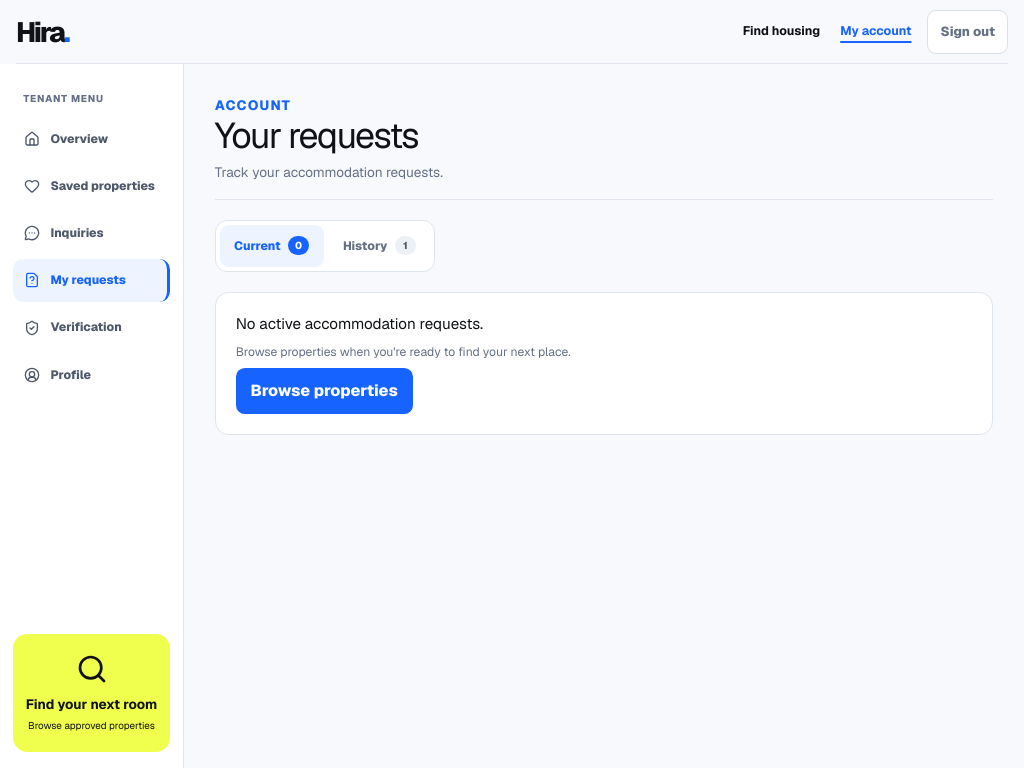
Test case: RequestList › shows a declined request reason to its tenant
Click the tab "History 1" at (380, 246), box [328,224,430,267]
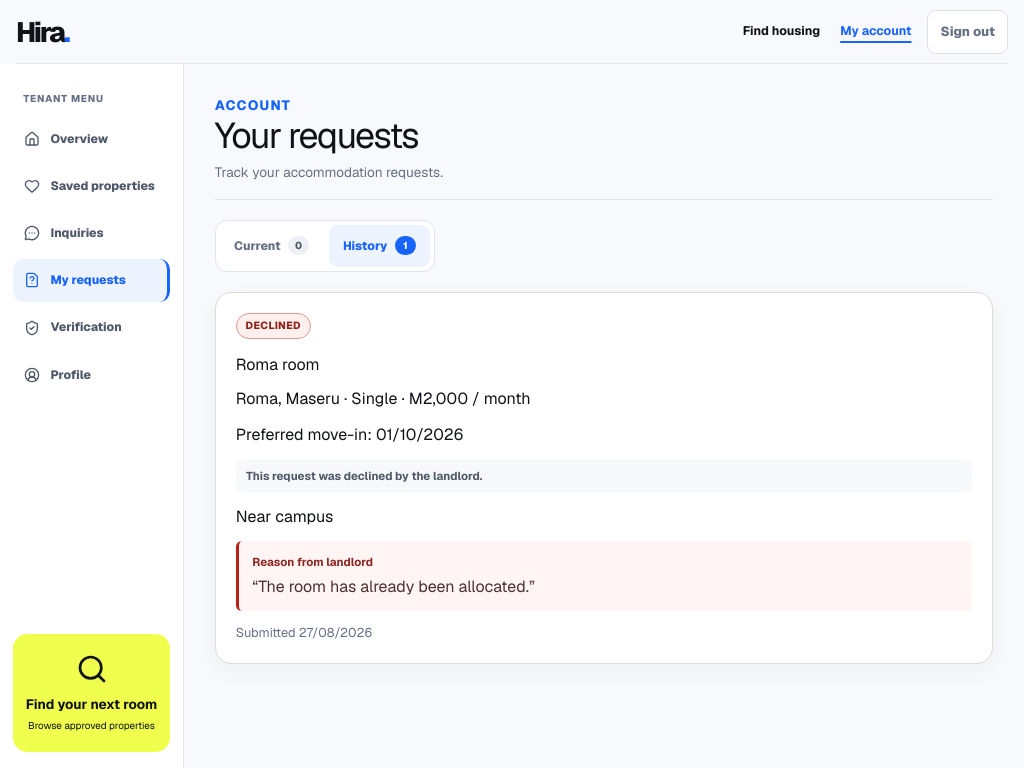
Check: the text "Reason from landlord" is shown, box [252,554,373,569]
Check: the text "“The room has already been allocated.”" is shown, box [252,576,535,597]
